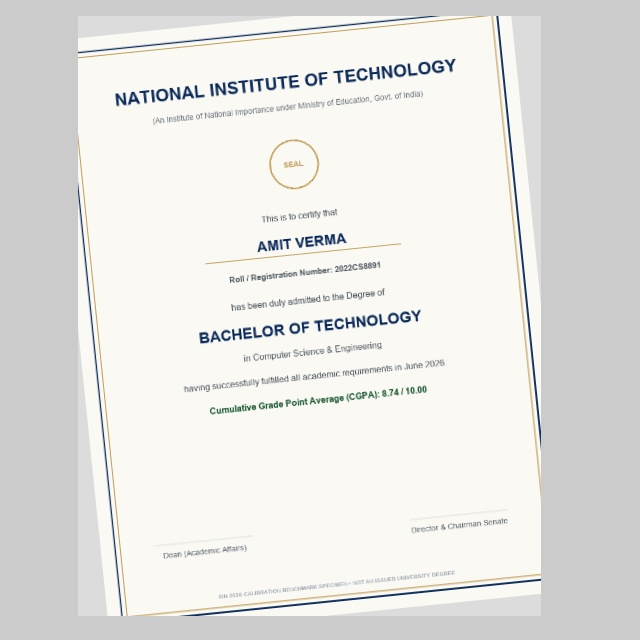marksheet: (78, 16, 541, 616)
